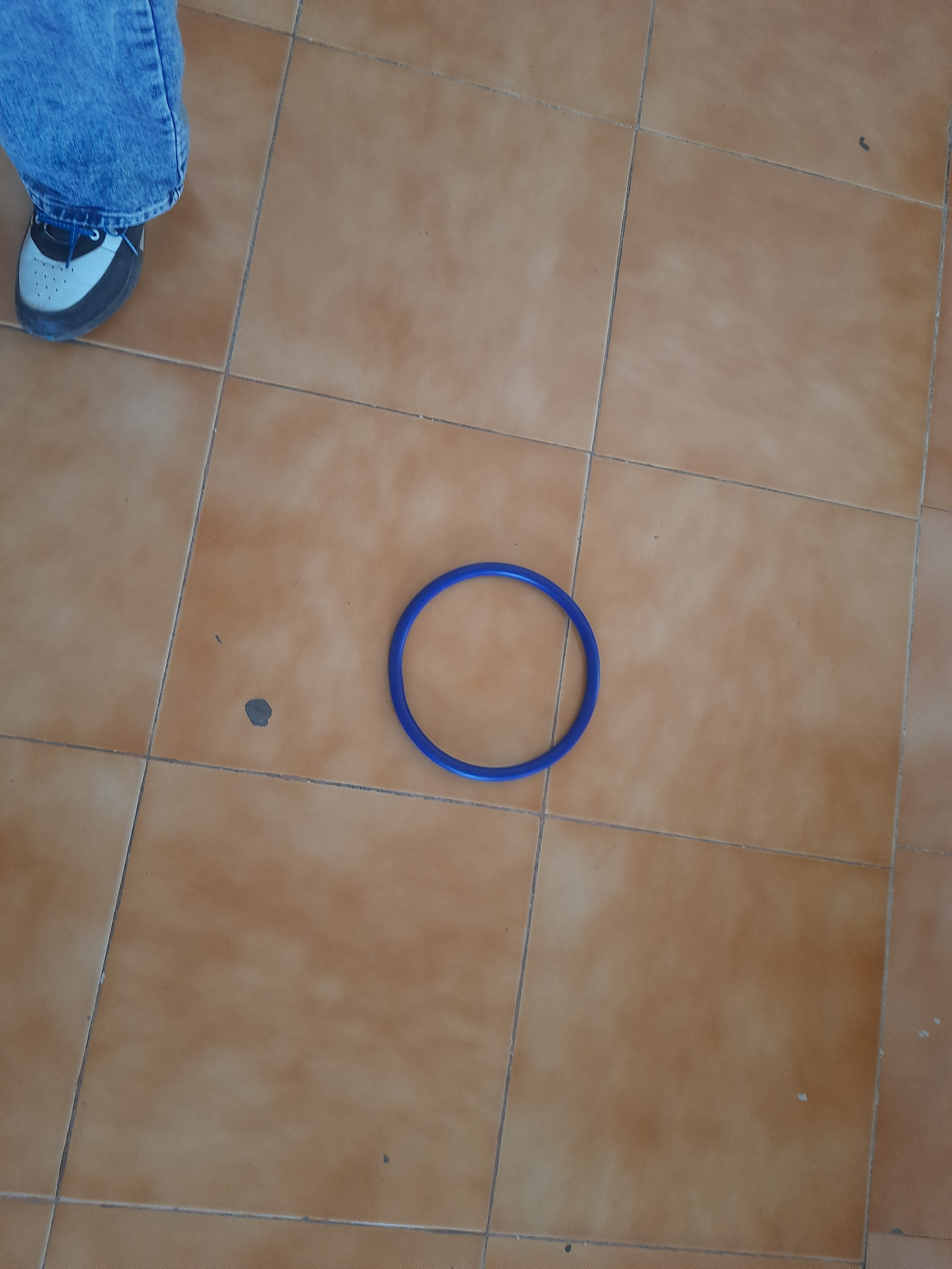Blue ring: (385, 563, 604, 784)
